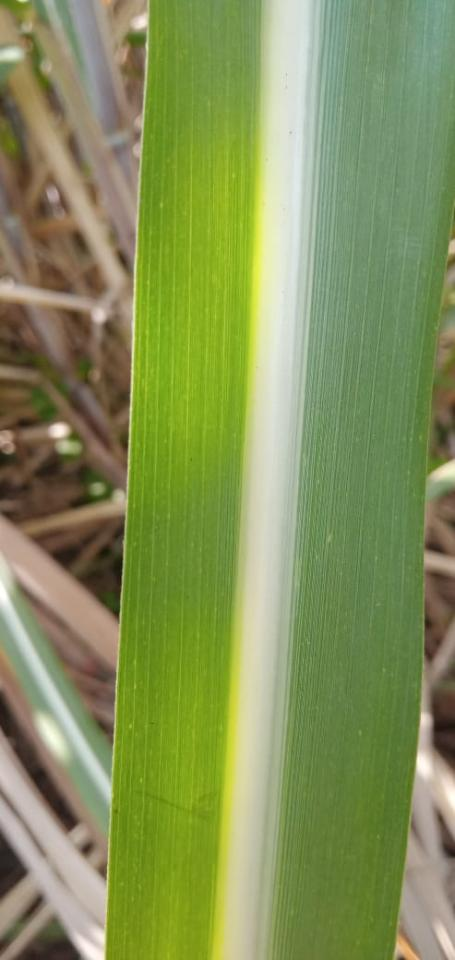Healthy: (102, 0, 454, 959)
